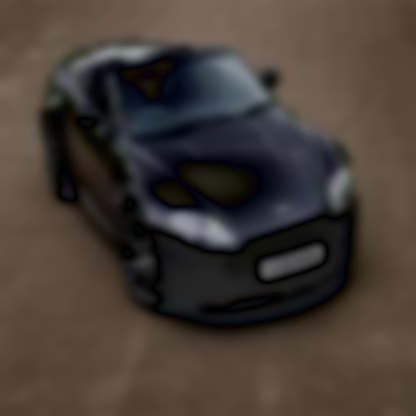Vehicle: (43, 39, 358, 316)
